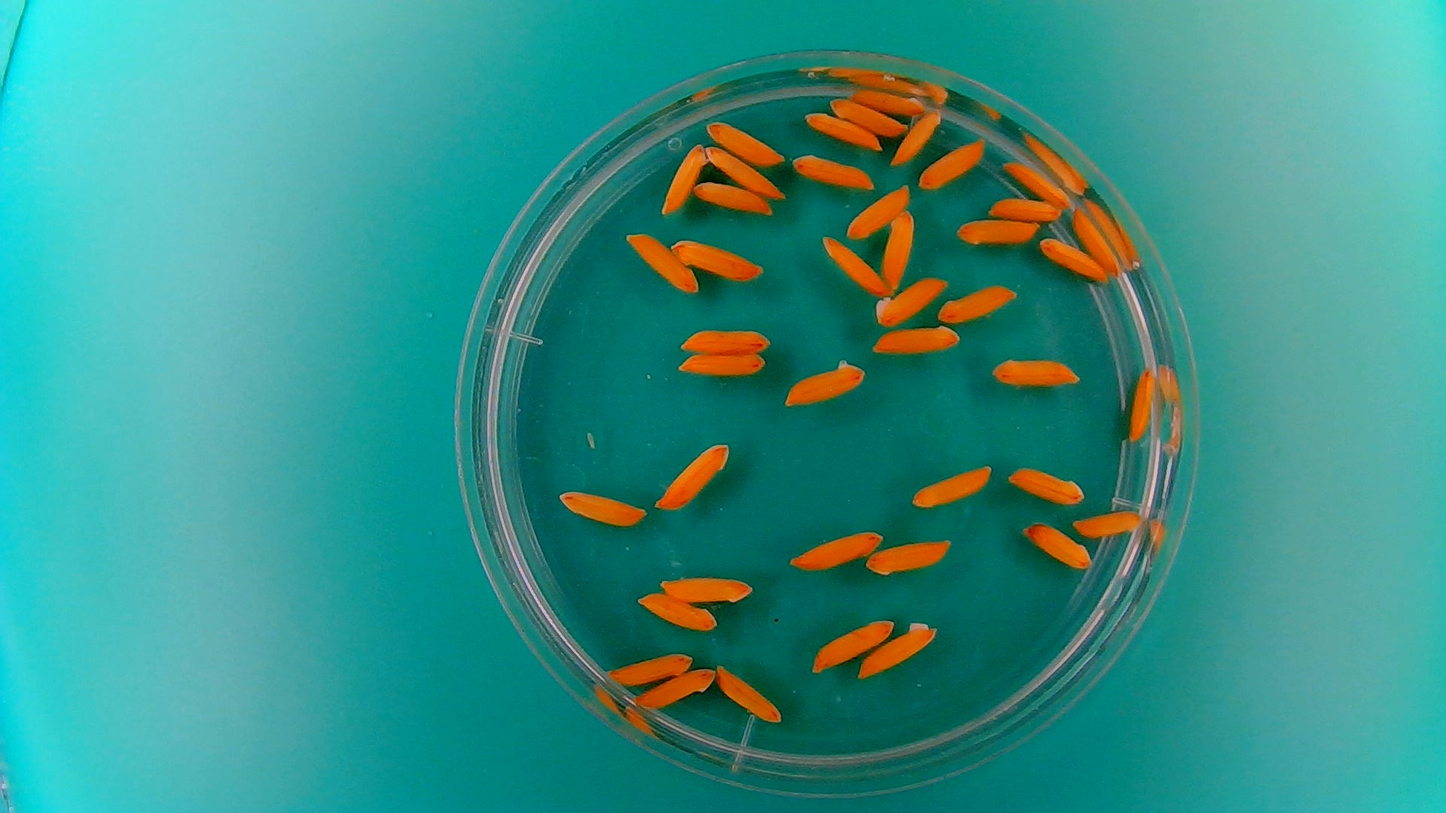no: (653, 437, 733, 511), (855, 617, 941, 681), (808, 616, 894, 674), (623, 230, 697, 294), (699, 147, 782, 203), (782, 354, 868, 408), (786, 527, 885, 573), (669, 238, 763, 285), (822, 234, 890, 297), (908, 461, 996, 509), (715, 662, 783, 723), (872, 274, 950, 327), (705, 117, 786, 166), (1020, 519, 1094, 571), (917, 135, 986, 190), (1071, 203, 1122, 276), (865, 535, 953, 577), (845, 183, 911, 239), (1000, 158, 1072, 209), (1004, 462, 1086, 506), (556, 489, 648, 528), (988, 352, 1082, 390), (635, 666, 717, 709), (1035, 235, 1110, 282), (662, 140, 709, 214), (604, 648, 693, 687), (936, 282, 1019, 323), (801, 109, 881, 151), (634, 592, 717, 632), (689, 178, 774, 216), (659, 571, 756, 604), (792, 152, 876, 190), (892, 107, 944, 166), (828, 97, 906, 136), (677, 324, 772, 356), (872, 323, 962, 356), (880, 208, 915, 290), (1125, 361, 1159, 445), (953, 216, 1040, 247), (676, 349, 769, 377), (1072, 507, 1146, 539), (850, 87, 926, 116), (987, 193, 1063, 222)
